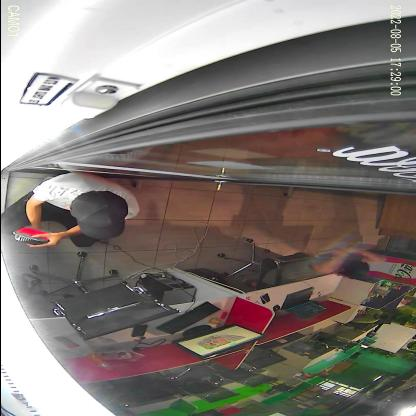red: (11, 226, 51, 246)
